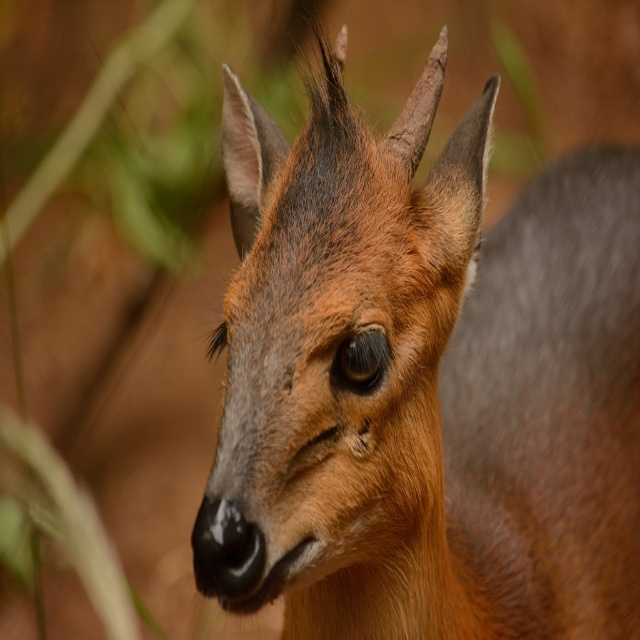Deer: (178, 0, 640, 640)
